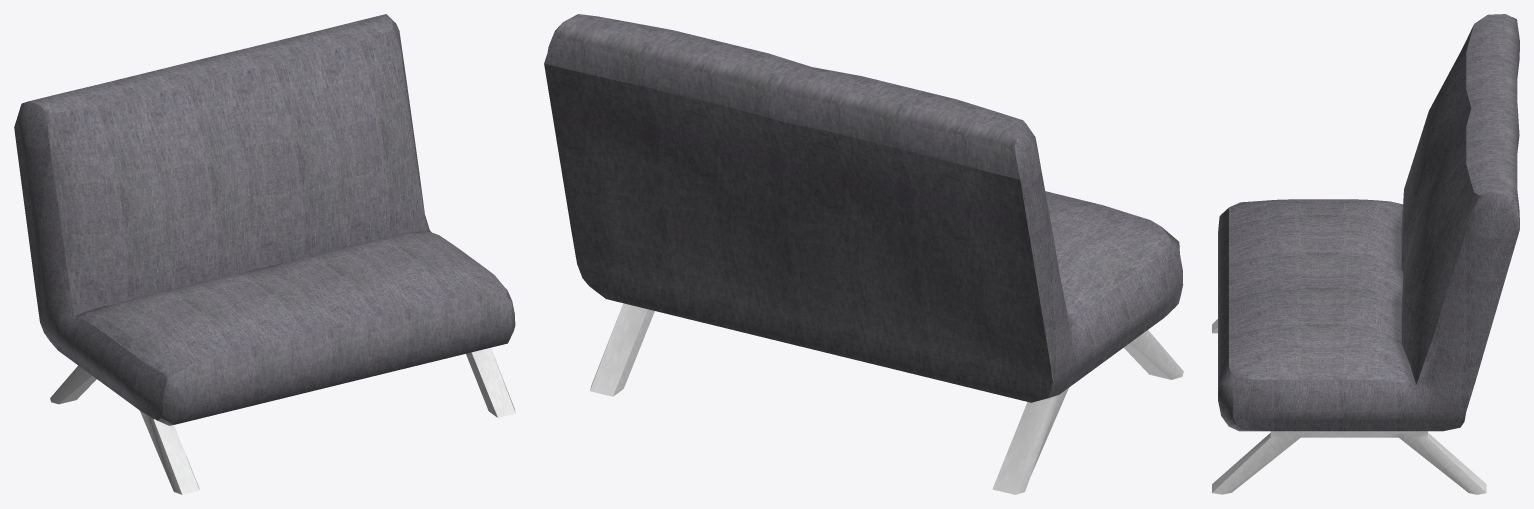
Rendered from OfficeSofa.fbx.
3 views of the same model, side by side, from view 1: azimuth 30°, elevation 25°; view 2: azimuth 150°, elevation 25°; view 3: azimuth 270°, elevation 25° (orthographic). The views are drawn at different scales.
Visible parts, largest first — view 1: pCube1; view 2: pCube1; view 3: pCube1.
Part boxes in pixels (box(x1,y1,x2,y2)): pCube1: box(14, 14, 515, 494); pCube1: box(544, 14, 1183, 494); pCube1: box(1212, 14, 1519, 494).
Bounding box in the file's own units: 2.39 × 1.8 × 1.64.
